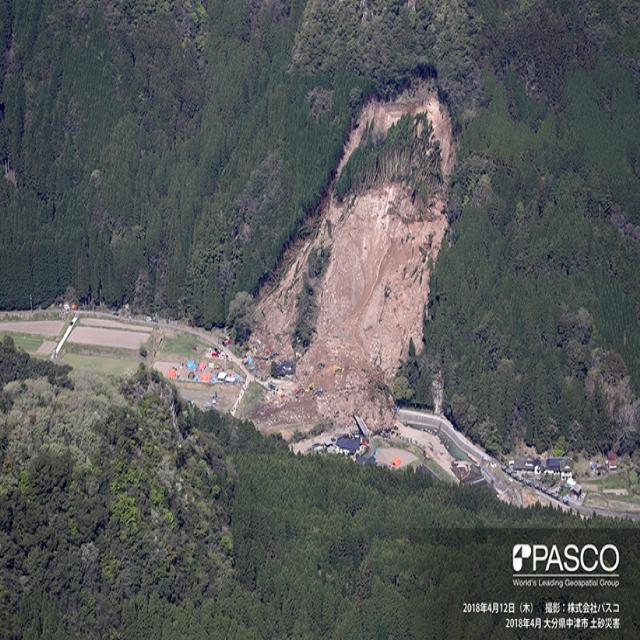Debris-flow: (250, 182, 448, 434), (339, 90, 455, 179)
